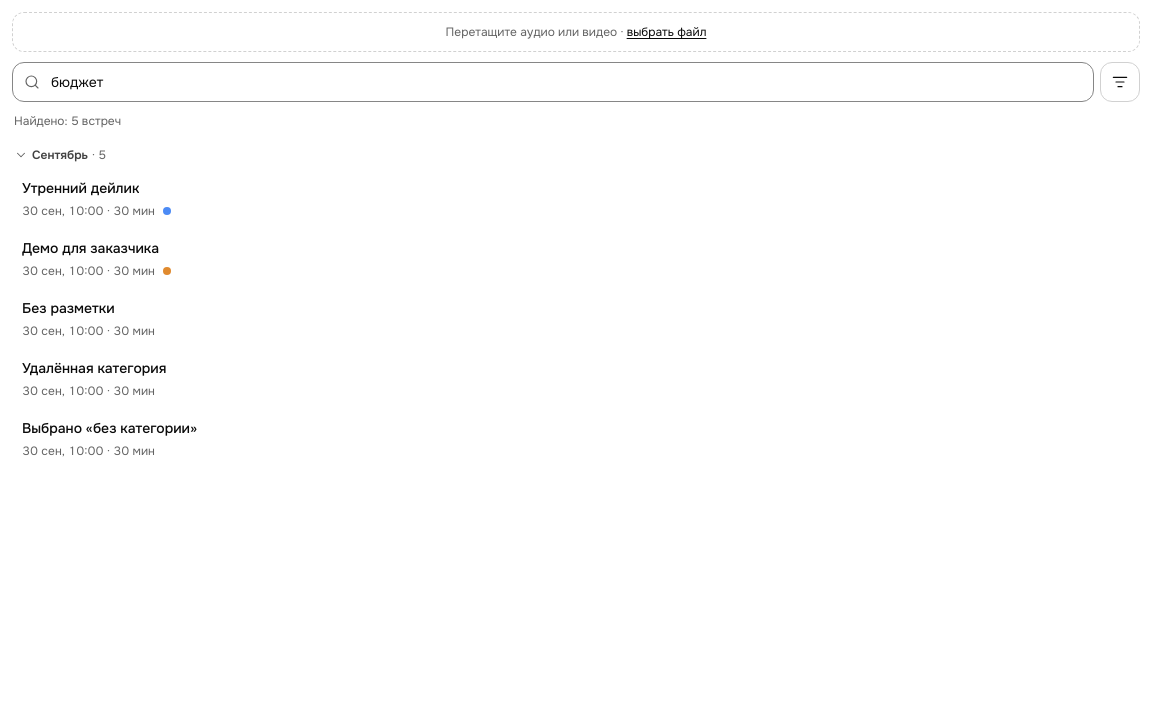
Test: при поиске счётчики — среди найденных
This screenshot has width=1152, height=720.
Step 1. Click the button named "Фильтры" → (1120, 82), box top-left (1100, 62), bottom-right (1140, 102)
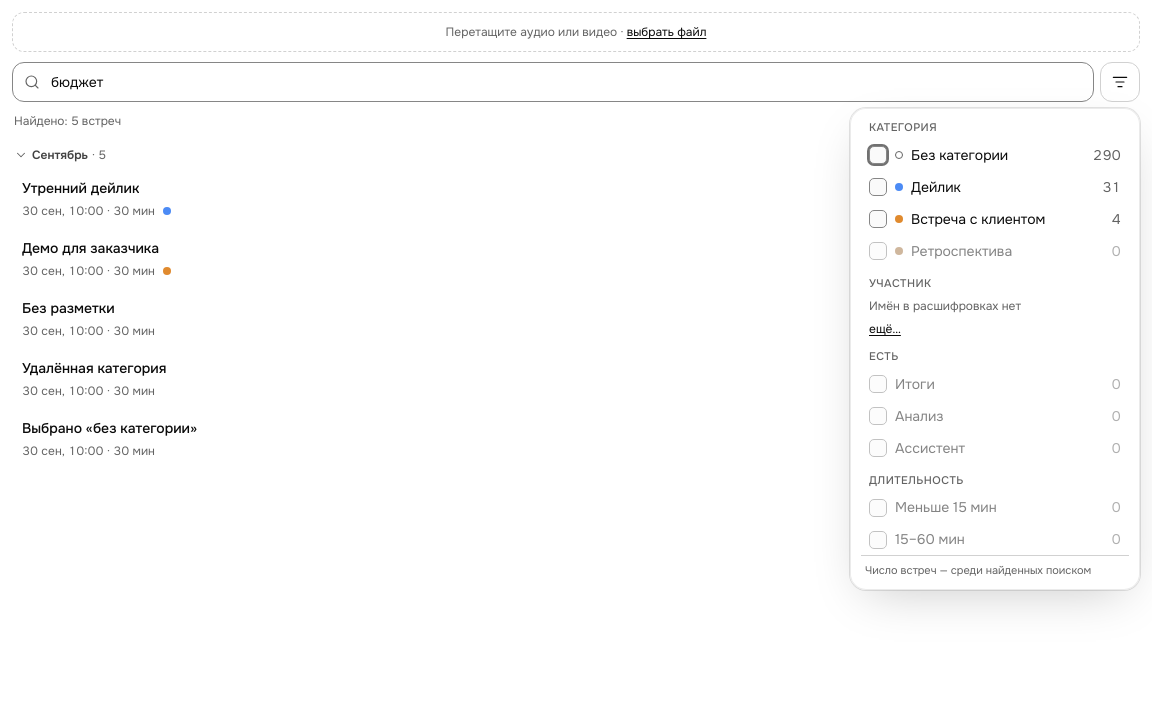
Now the text "Число встреч — среди найденных поиском" is shown, box top-left (865, 562), bottom-right (1125, 578)
